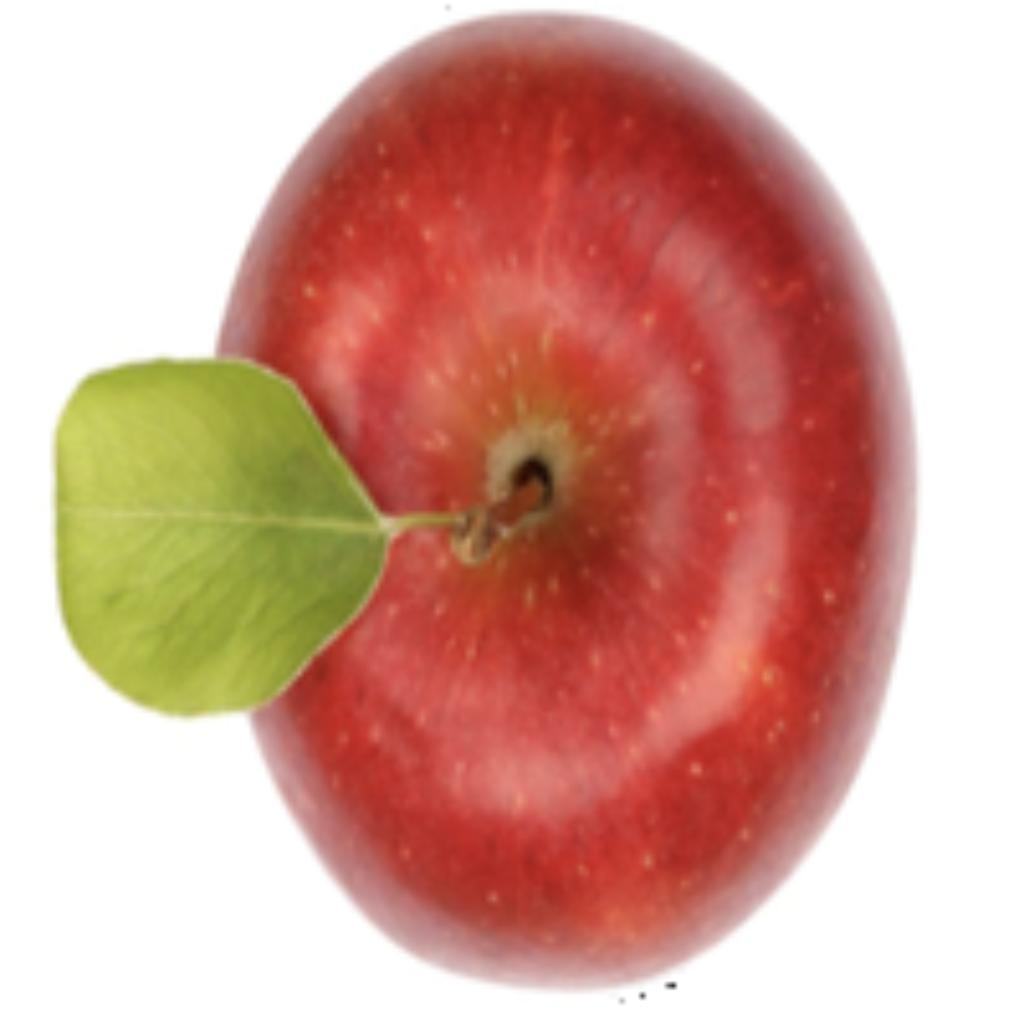apple: (46, 0, 922, 1004)
